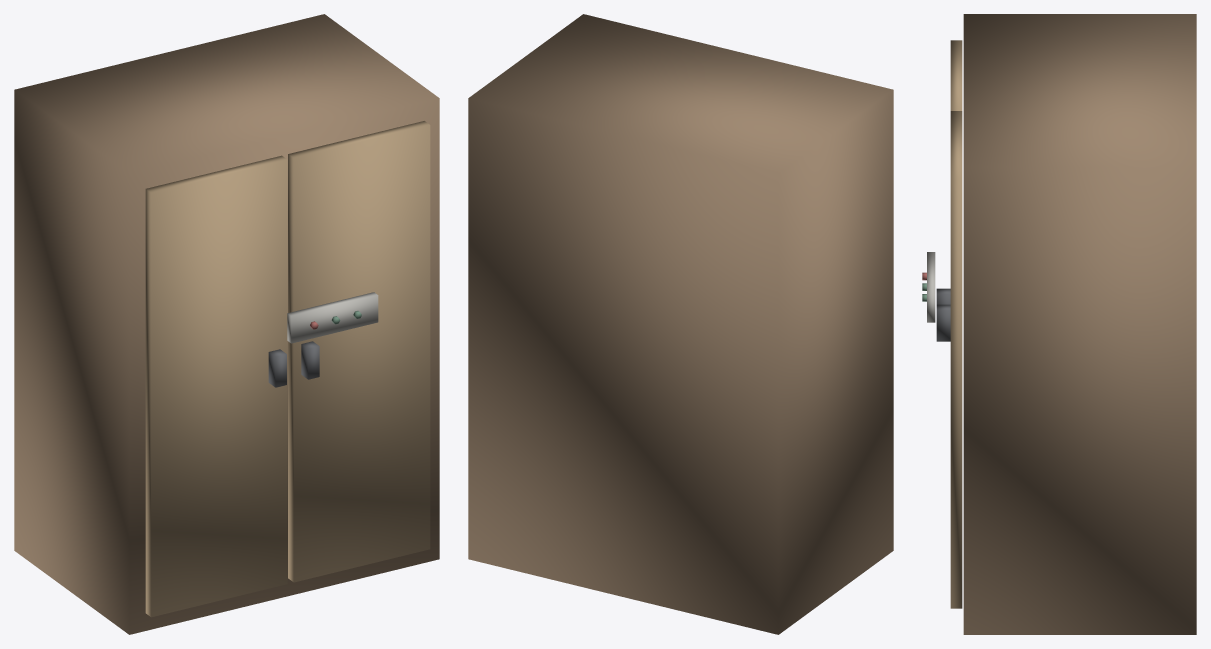
File: kitchen_wall_cabinet__deep.glb
3 renders of one model, left to right at view 1: azimuth 30°, elevation 25°; view 2: azimuth 150°, elevation 25°; view 3: azimuth 270°, elevation 25°, orthographic.
Visible parts, largest first — view 1: world; view 2: world; view 3: world.
Boxes of the visible parts, x1,y1,x2,y2 form: world: [14, 14, 439, 634]; world: [468, 14, 893, 634]; world: [922, 14, 1196, 634].
Size of the model in its own units: 0.95 by 1.35 by 0.718.
